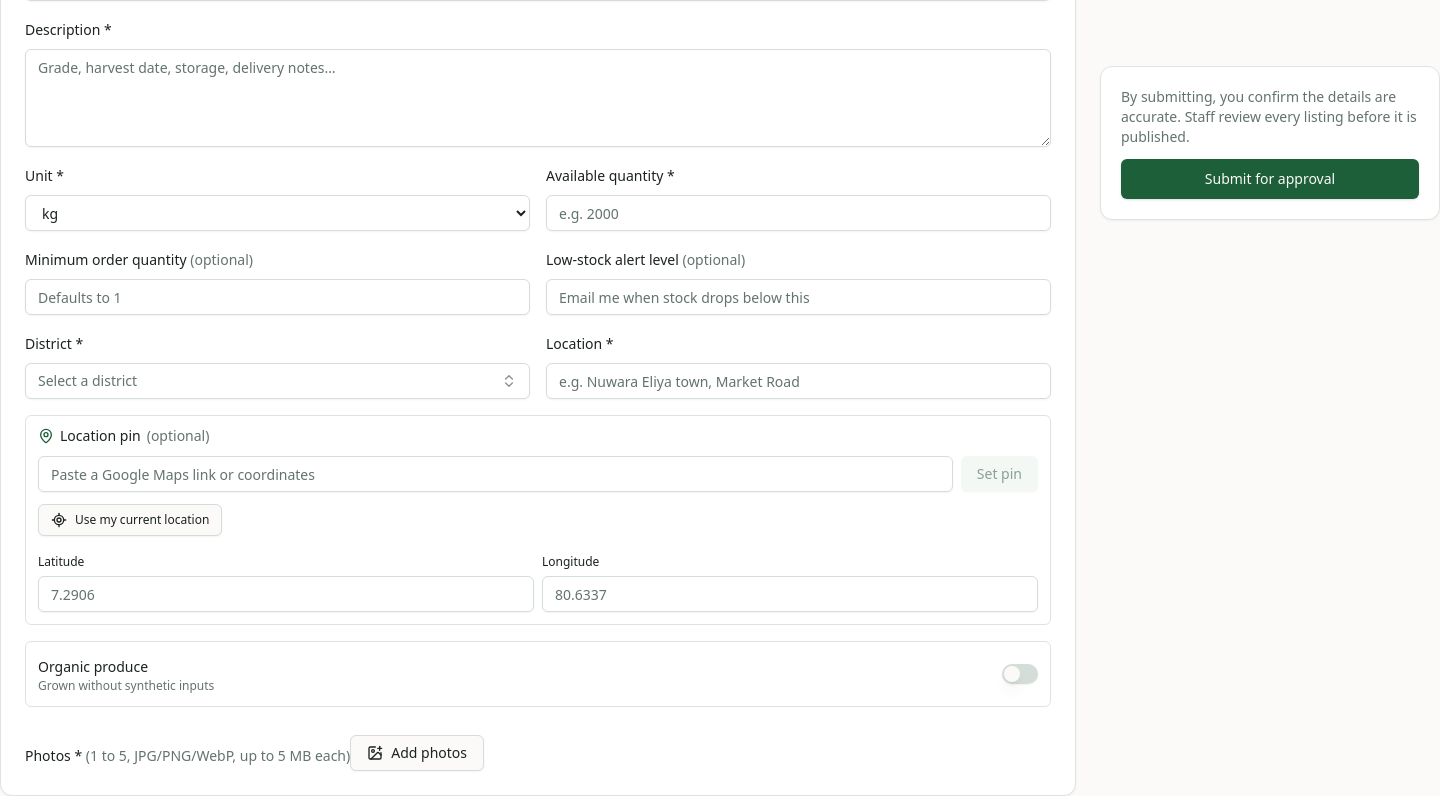
Scenario: ListingForm: creating › shows the certification field only for organic produce
(page scrolled)
Expected: the field labelled "Certification details" is not shown
What coordinates should you click on to do the following:
click the switch
I would click on:
 (1020, 674)
Its box is [1002,664,1038,684].
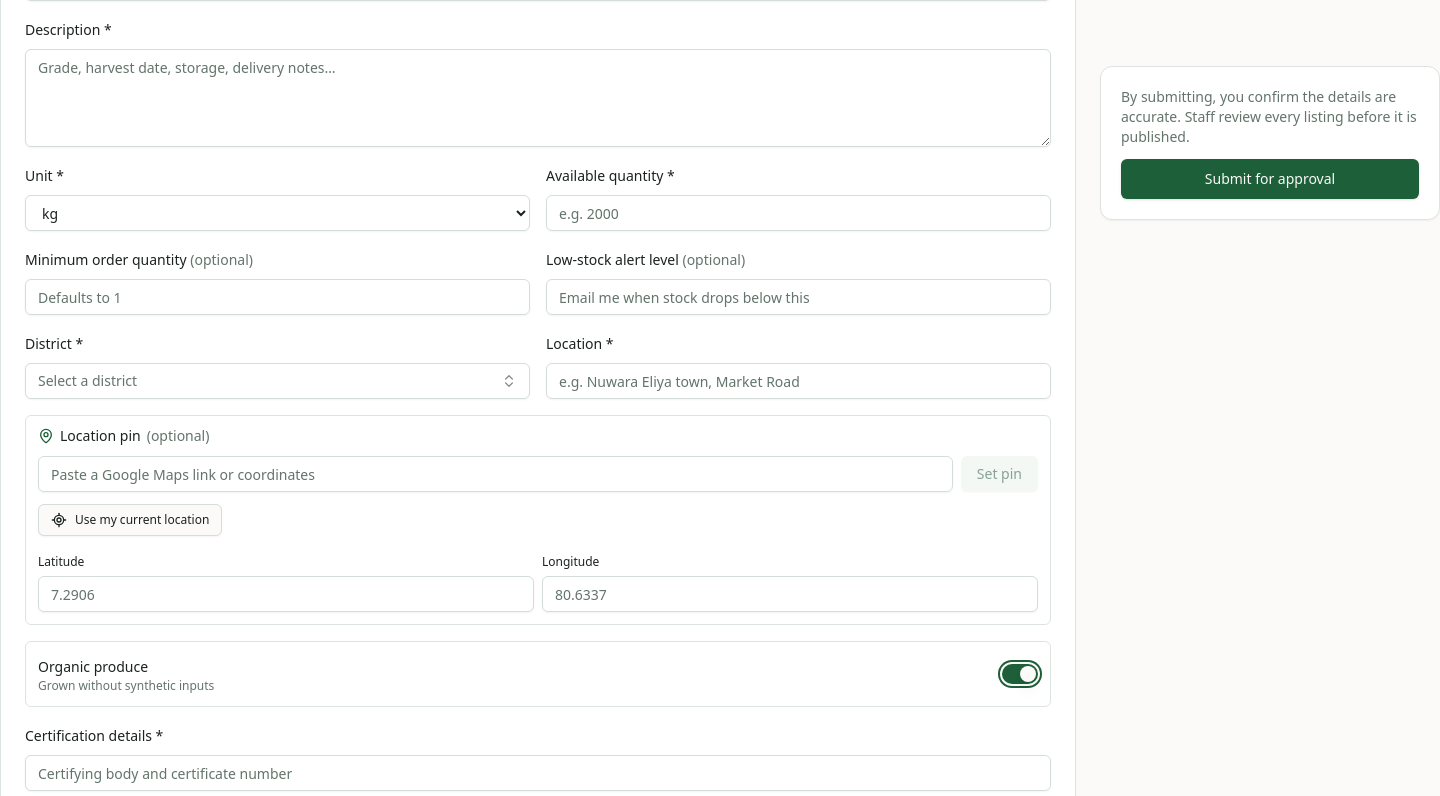
Expected: the field labelled "Certification details *" is shown, [25,755,1051,791]
